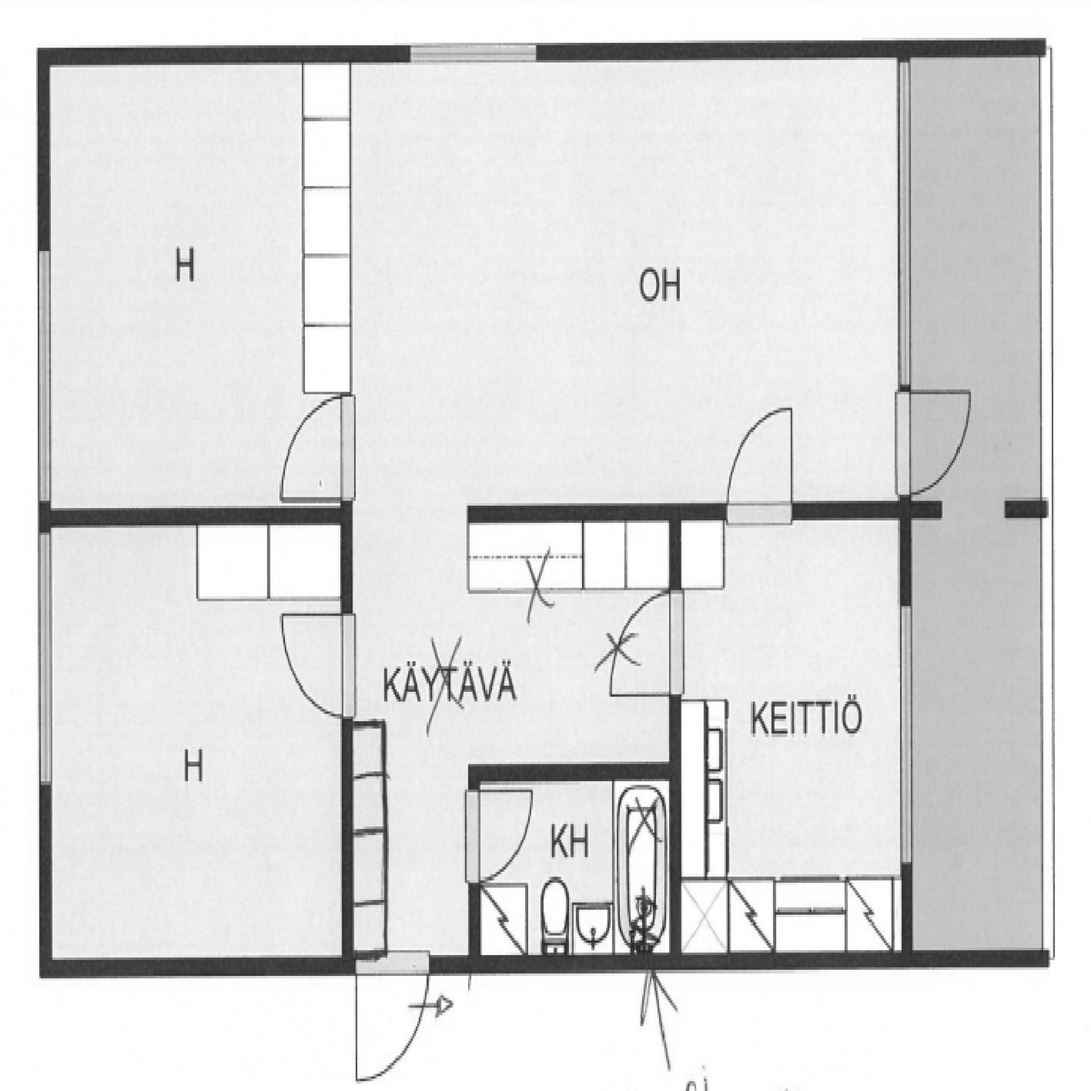wall: (37, 42, 909, 61), (40, 953, 909, 969), (37, 42, 50, 969), (466, 506, 1045, 524), (898, 42, 909, 969), (669, 506, 682, 969), (341, 395, 351, 969), (38, 508, 351, 524), (681, 877, 728, 953), (468, 764, 682, 780), (898, 42, 1047, 61), (468, 764, 479, 969), (909, 953, 1048, 968)
